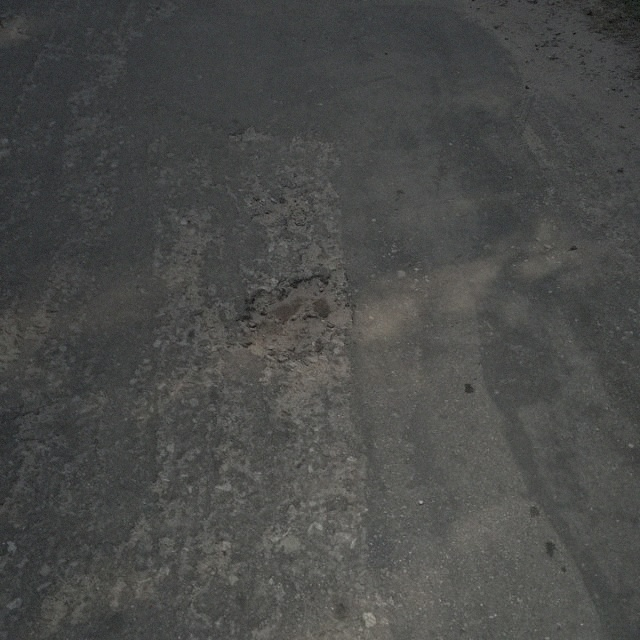pothole: (226, 264, 356, 368)
